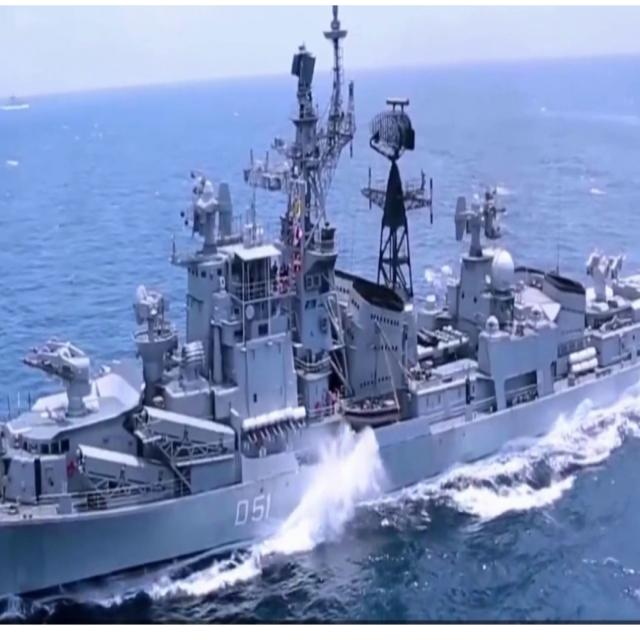OCR: (222, 484, 272, 536)
